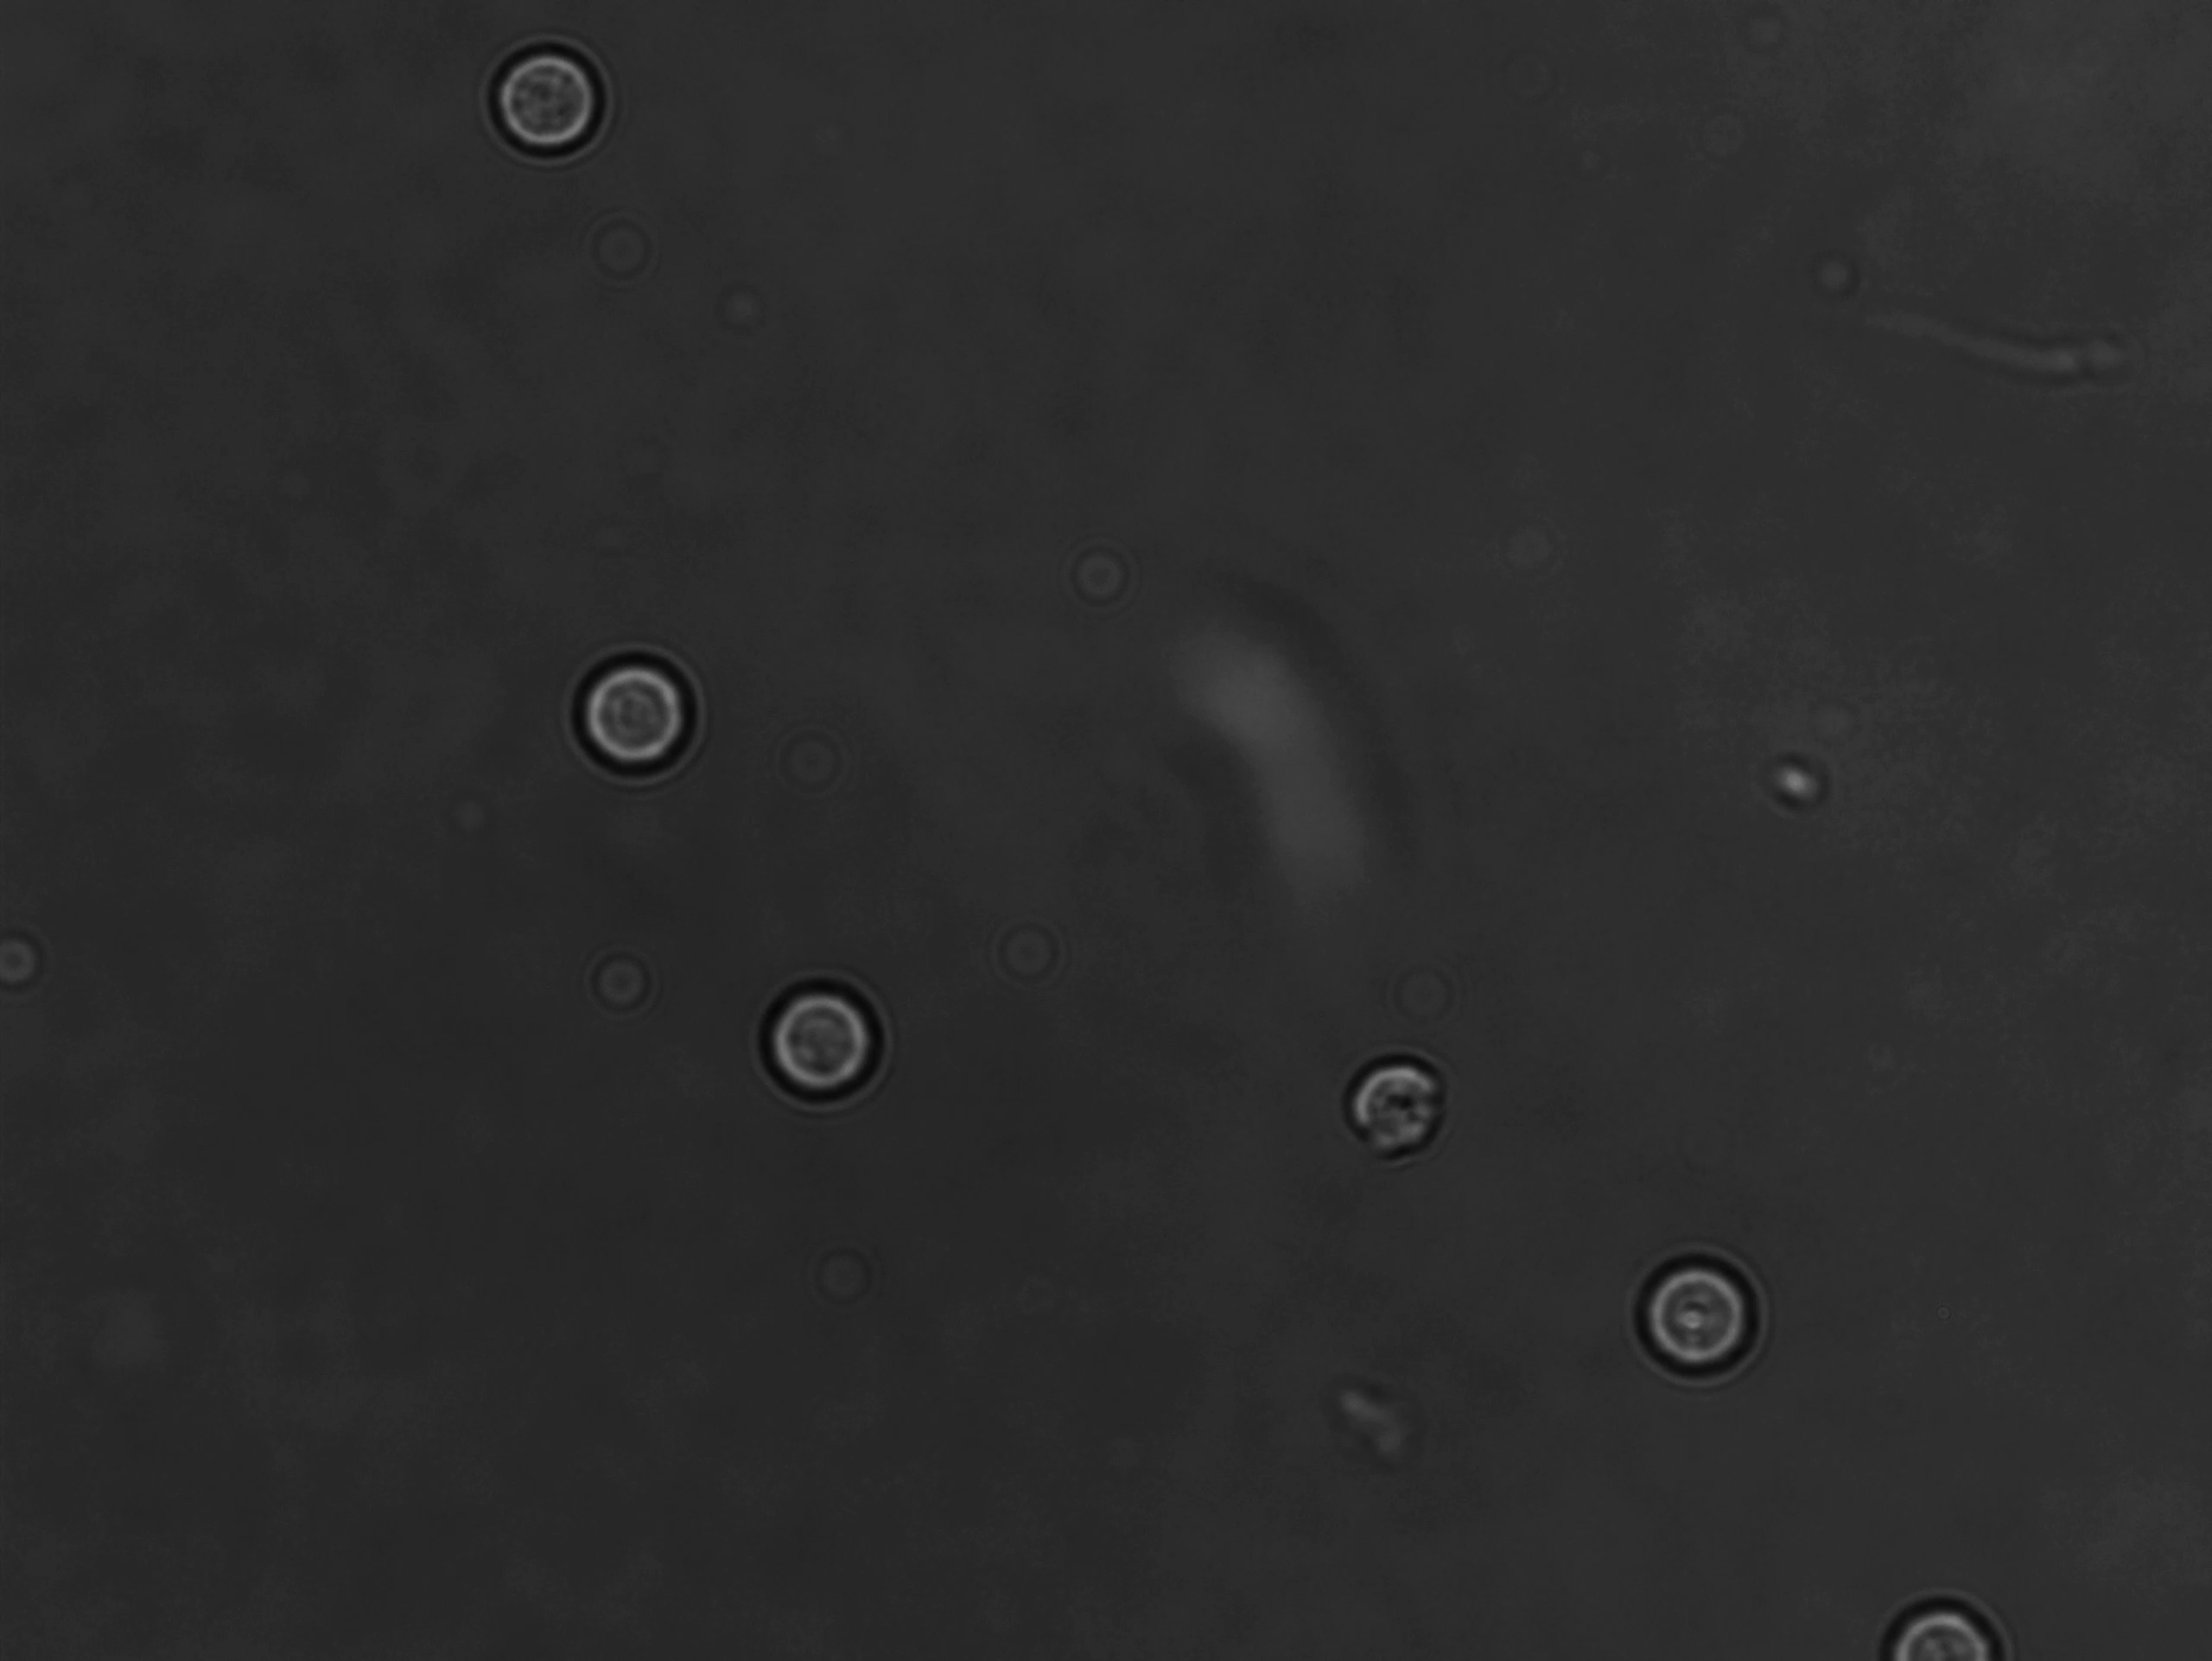depth:20: (476, 21, 649, 190), (562, 637, 727, 792), (1617, 1234, 1772, 1389), (745, 972, 888, 1117)
